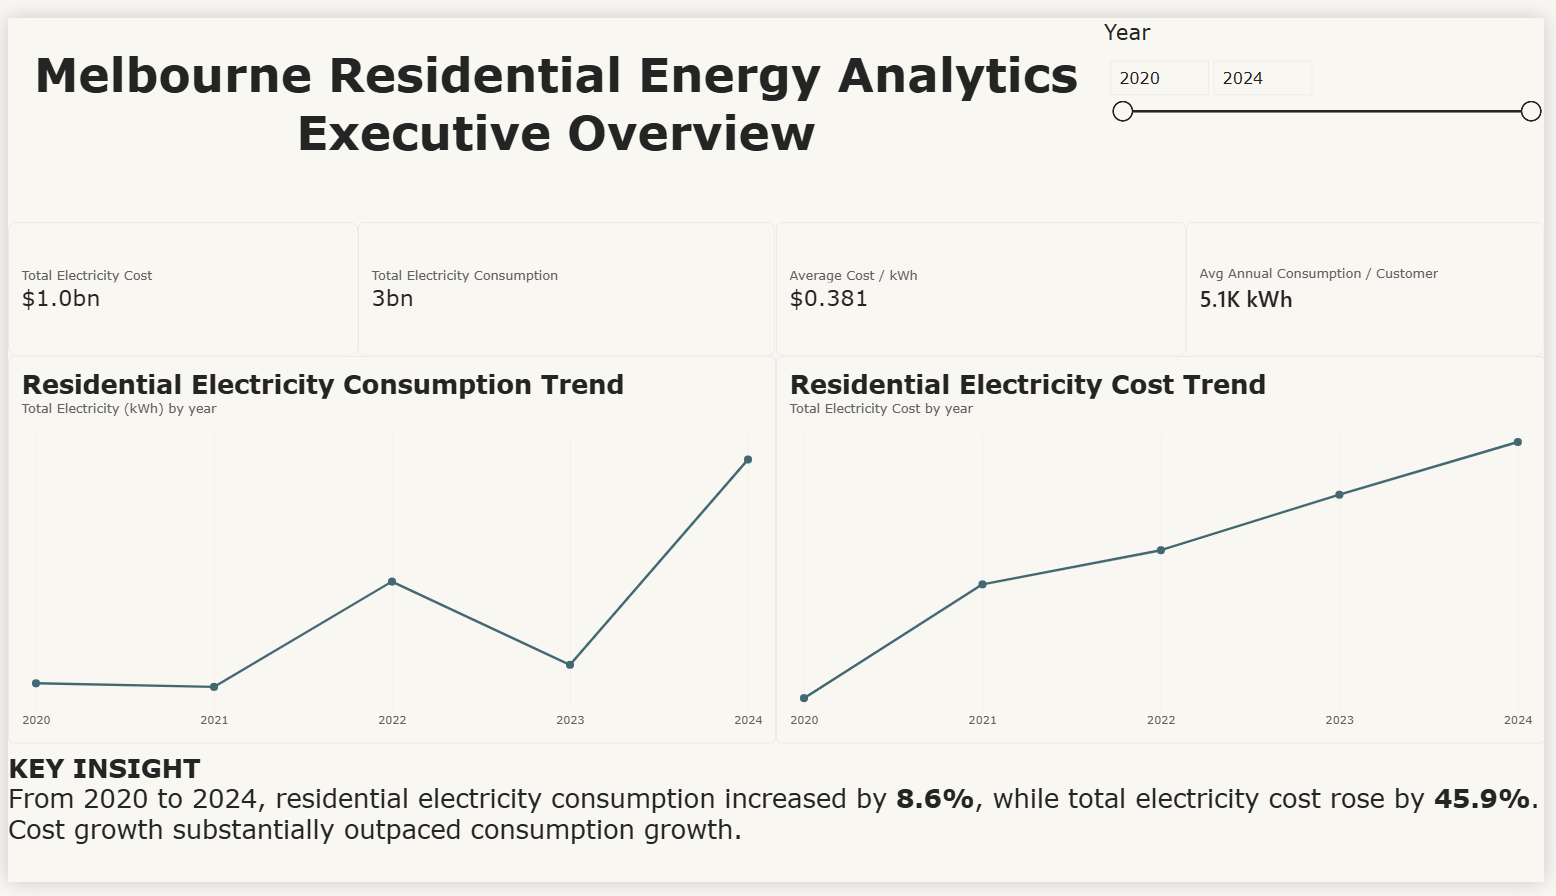

Layout of this report page (visuals, bound fields, positions):
{"tool":"powerbi","page":{"name":"Executive Overview","canvas":[1920,1080],"ordinal":0},"visuals":[{"type":"cardVisual","fields":{"Data":["Energy Analysis.Total Electricity Cost"]},"box":[0,254.9,438.7,167.7],"z":0},{"type":"cardVisual","fields":{"Data":["Energy Analysis.Total Electricity (kWh)"]},"box":[438.7,254.9,521.3,167.7],"z":1000},{"type":"cardVisual","fields":{"Data":["Energy Analysis.Average Cost per kWh"]},"box":[960,254.9,512.2,167.7],"z":2000},{"type":"cardVisual","fields":{"Data":["Energy Analysis.Average kWh per Customer"]},"box":[1472.2,254.9,447.8,167.7],"z":3000},{"type":"lineChart","title":"Residential Electricity Consumption Trend","fields":{"Category":["Energy Analysis.year"],"Y":["Energy Analysis.Total Electricity (kWh)"]},"box":[0,422.6,960,484.6],"z":4000},{"type":"lineChart","title":"Residential Electricity Cost Trend","fields":{"Category":["Energy Analysis.year"],"Y":["Energy Analysis.Total Electricity Cost"]},"box":[960,422.6,962.3,484.6],"z":5000},{"type":"slicer","title":"Year","fields":{"Values":["Energy Analysis.year"]},"box":[1370,0,550,254],"z":6000},{"type":"textbox","box":[0,0,1370,254],"z":7000},{"type":"textbox","box":[0,918.7,1920,160.8],"z":8000}]}

Visuals, with their boxes in screenshot pixels (x1, y1, x2, y2), scaled from the page's 1920x1080 canvas onto the 1556x896 screenshot:
cardVisual - Energy Analysis.Total Electricity Cost: [left=0, top=211, right=356, bottom=351]
cardVisual - Energy Analysis.Total Electricity (kWh): [left=356, top=211, right=778, bottom=351]
cardVisual - Energy Analysis.Average Cost per kWh: [left=778, top=211, right=1193, bottom=351]
cardVisual - Energy Analysis.Average kWh per Customer: [left=1193, top=211, right=1555, bottom=351]
"Residential Electricity Consumption Trend" lineChart: [left=0, top=351, right=778, bottom=753]
"Residential Electricity Cost Trend" lineChart: [left=778, top=351, right=1555, bottom=753]
"Year" slicer: [left=1110, top=0, right=1555, bottom=211]
textbox: [left=0, top=0, right=1110, bottom=211]
textbox: [left=0, top=762, right=1555, bottom=895]
